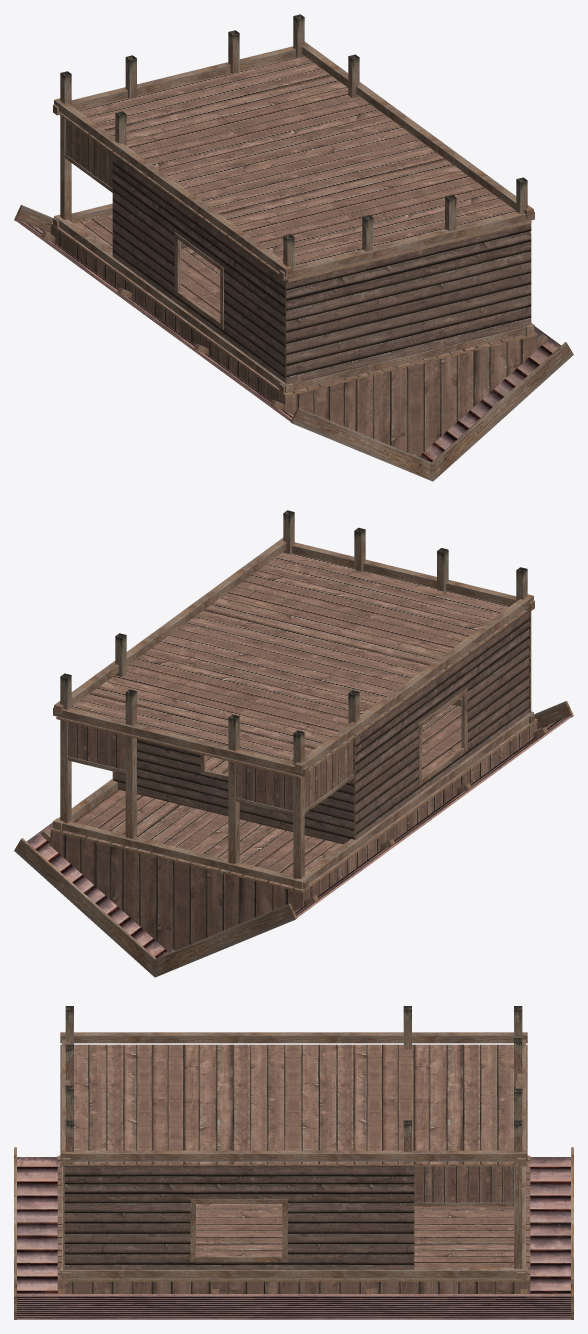
The model's file is Cabin.fbx.
3 views of the same model, one above another, from view 1: azimuth 30°, elevation 25°; view 2: azimuth 150°, elevation 25°; view 3: azimuth 270°, elevation 25° (orthographic).
Parts seen in each view (by area): view 1: Cabin; view 2: Cabin; view 3: Cabin.
Part boxes in pixels (x1,y1,x2,y2): Cabin: (14,14,573,481); Cabin: (14,510,573,977); Cabin: (14,1006,573,1319).
Size of the model in its own units: 11.63 by 9.98 by 19.87.
